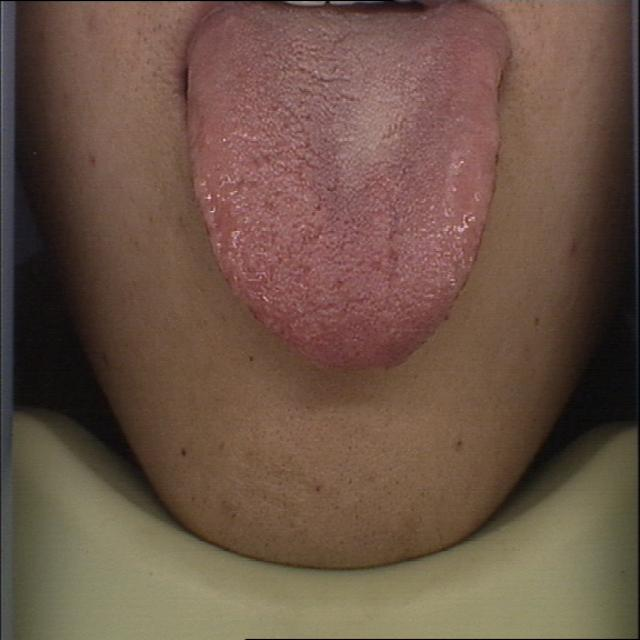tongue: (182, 1, 516, 372)
